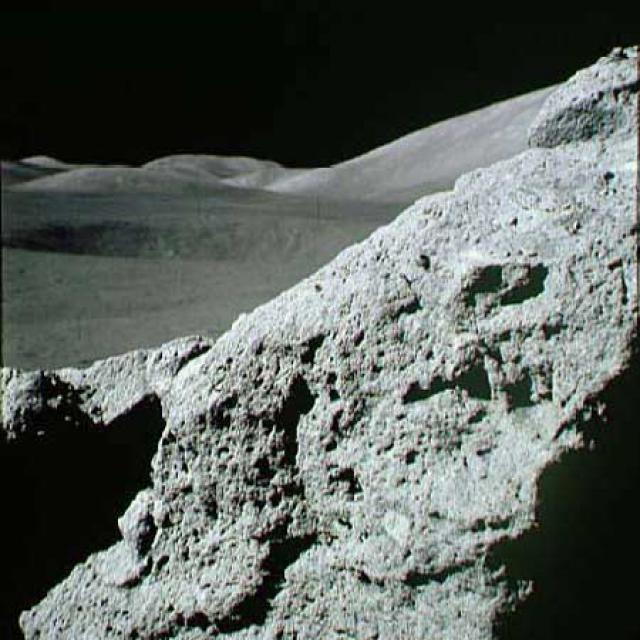crater: (5, 204, 339, 264)
rock: (0, 39, 639, 638)
